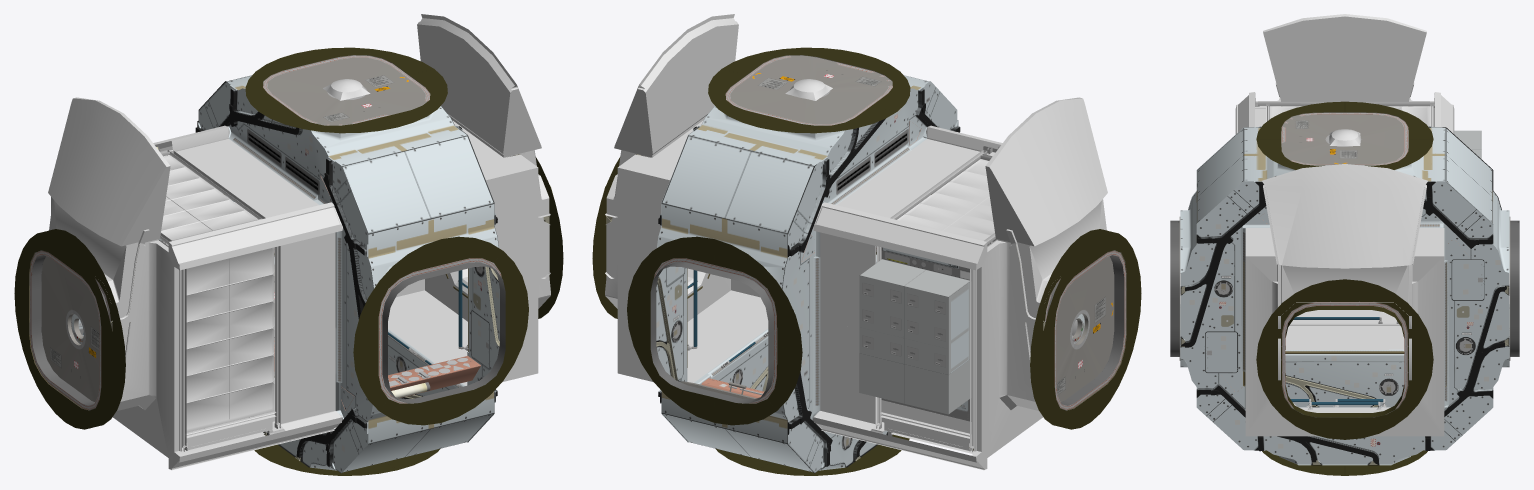
3 renders of one model, left to right at view 1: azimuth 30°, elevation 25°; view 2: azimuth 150°, elevation 25°; view 3: azimuth 270°, elevation 25°, orthographic. The views are drawn at different scales.
Parts seen in each view (by area): view 1: Node1_Int, Node1_Int_Metal_Hatch_Zenith_Closed, Node1_Int_Metal_Hatch_Aft_Closed; view 2: Node1_Int, EXPRESS_Racks_ATLAS_Galley_Base, Node1_Int_Metal_Hatch_Zenith_Closed, Node1_Int_Metal_Hatch_Aft_Closed; view 3: Node1_Int, Node1_Int_Metal_Hatch_Zenith_Closed, EXPRESS_Racks_ATLAS_Galley_Base.
Boxes of the visible parts, x1,y1,x2,y2 form: Node1_Int: [14, 14, 563, 475]; Node1_Int_Metal_Hatch_Zenith_Closed: [267, 57, 426, 125]; Node1_Int_Metal_Hatch_Aft_Closed: [41, 256, 99, 401]; Node1_Int: [592, 14, 1141, 475]; EXPRESS_Racks_ATLAS_Galley_Base: [859, 247, 971, 433]; Node1_Int_Metal_Hatch_Zenith_Closed: [730, 55, 892, 124]; Node1_Int_Metal_Hatch_Aft_Closed: [1051, 256, 1114, 401]; Node1_Int: [1170, 14, 1519, 475]; Node1_Int_Metal_Hatch_Zenith_Closed: [1281, 114, 1403, 164]; EXPRESS_Racks_ATLAS_Galley_Base: [1454, 130, 1481, 158].
Size of the model in its own units: 4958 by 3976 by 3759.
